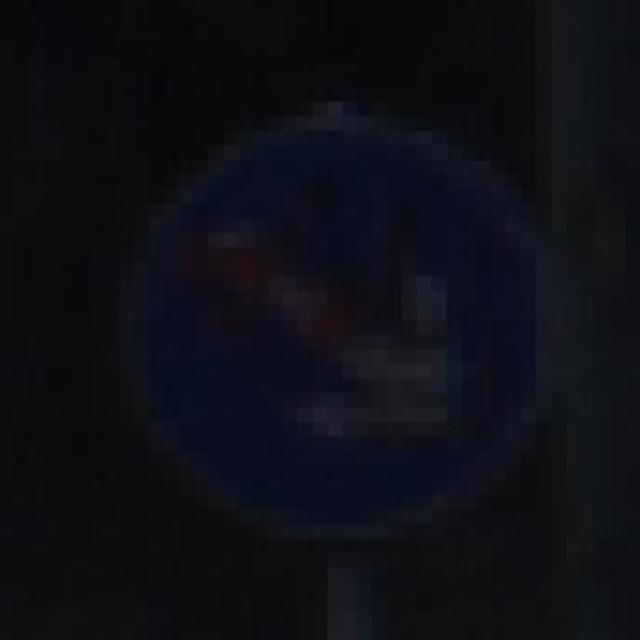Keep-Right: (90, 87, 596, 553)
